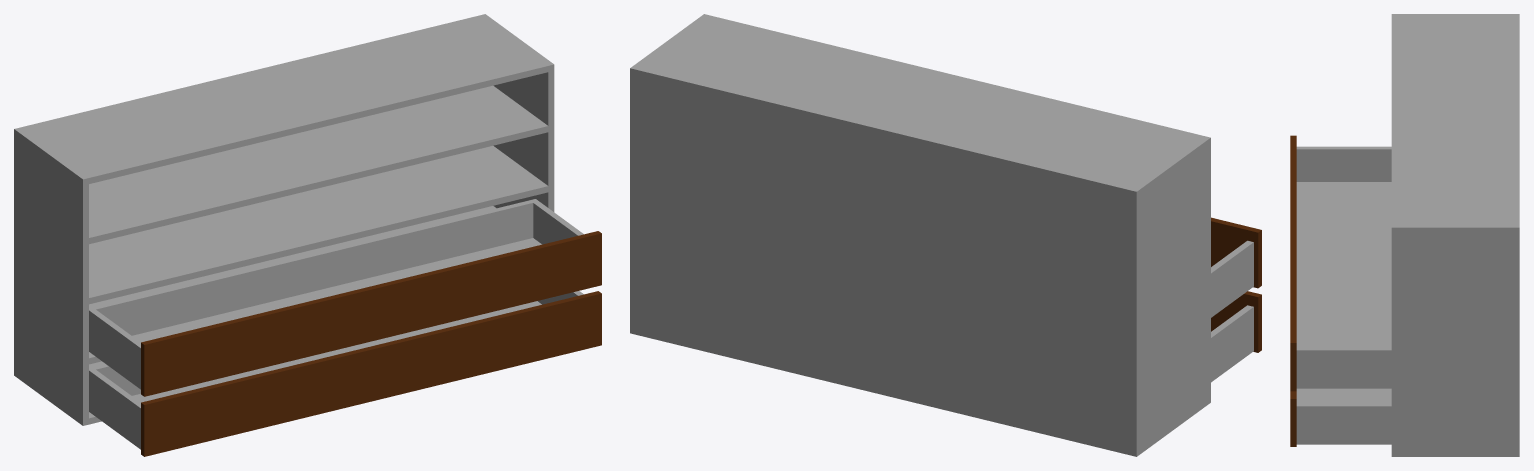
Rendered from meuble_68fa250f9095a.glb.
The picture shows the model from 3 angles, left to right: view 1: azimuth 30°, elevation 25°; view 2: azimuth 150°, elevation 25°; view 3: azimuth 270°, elevation 25°; orthographic projection. The views are drawn at different scales.
Parts seen in each view (by area): view 1: world; view 2: world; view 3: world.
Part boxes in pixels (bbox=[...]): world: bbox=[14, 14, 601, 456]; world: bbox=[630, 14, 1261, 456]; world: bbox=[1290, 14, 1519, 456].
Size of the model in its own units: 1.5 by 0.75 by 0.68.
1 material, 1 textured.
